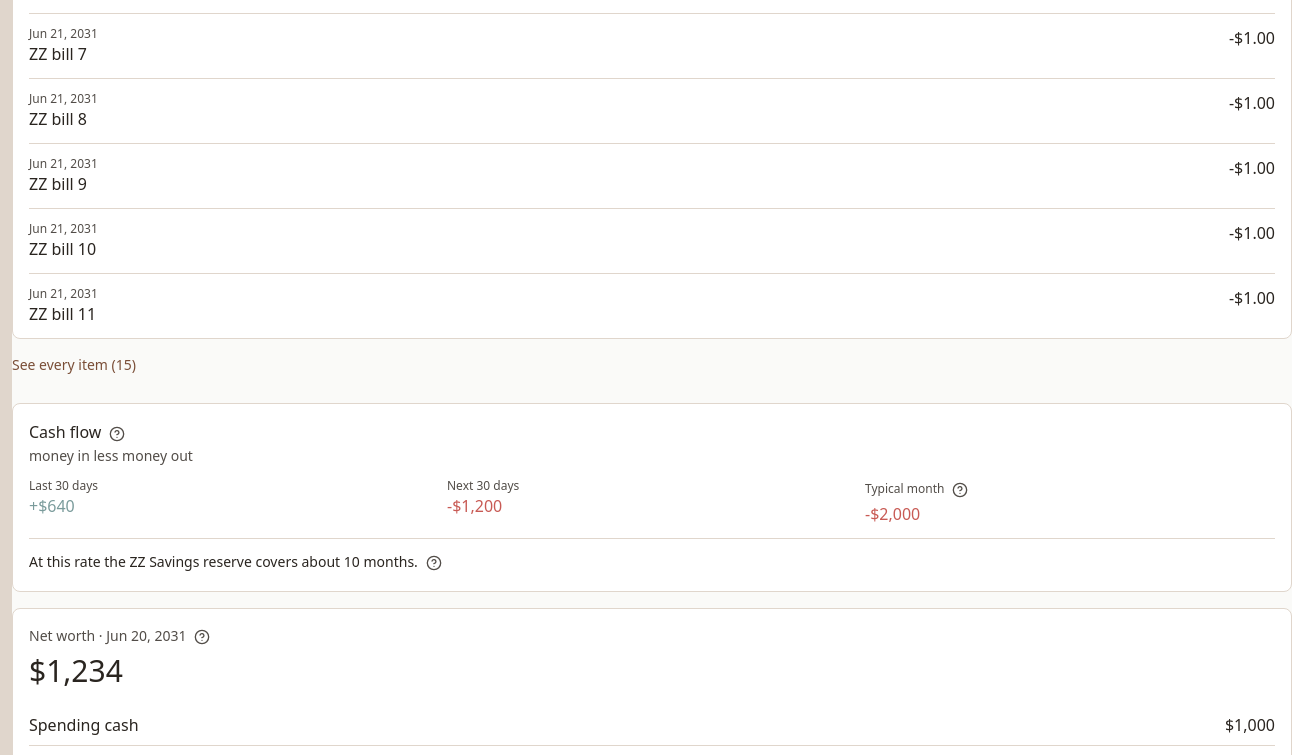
Scenario: cuts a long next-14-days list and offers every item
(page scrolled)
Expected: the text "Net worth · Jun 20, 2031" is shown, x1=29 y1=625 x2=214 y2=649
Click the button "See every item (15)".
click(74, 365)  # box x1=12 y1=343 x2=136 y2=387
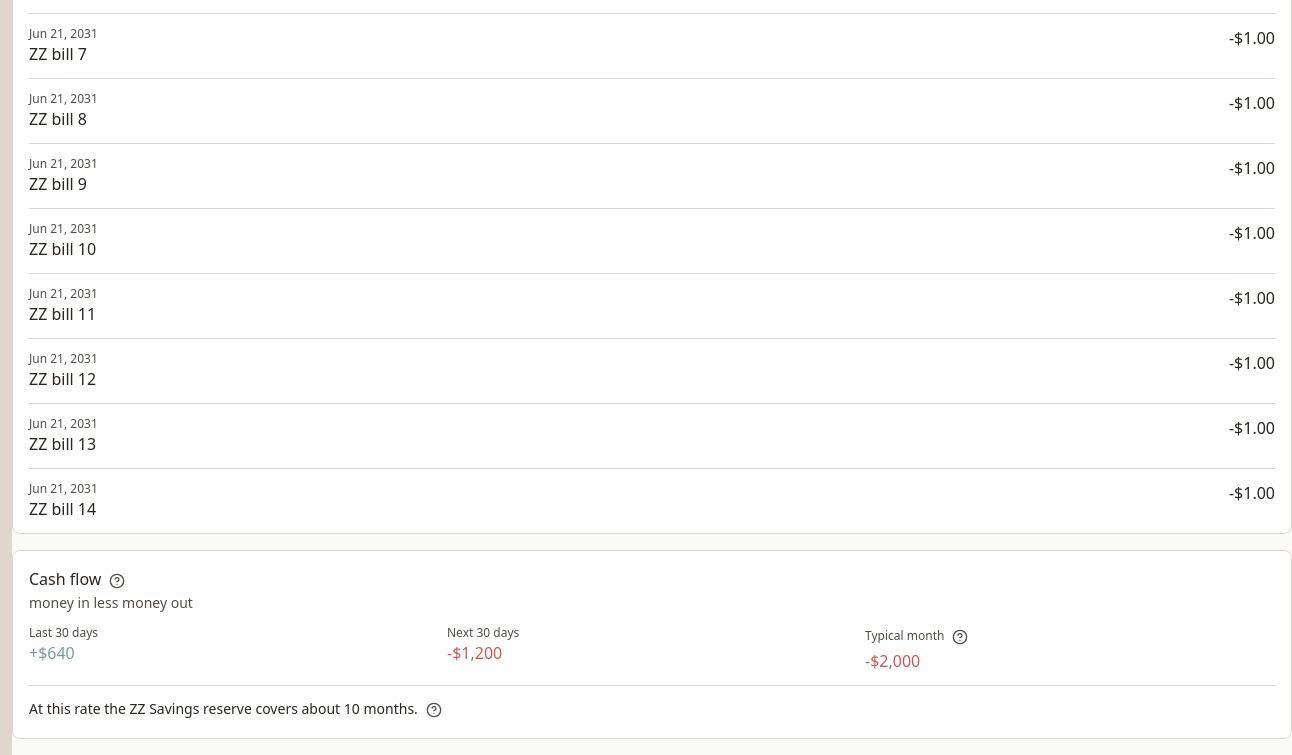
Expected: the text "ZZ bill 14" is shown, x1=29 y1=498 x2=96 y2=520
